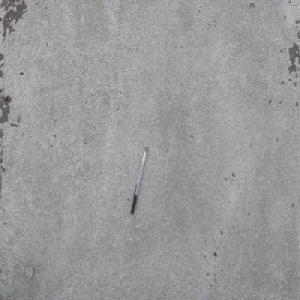Pen: (130, 146, 147, 215)
